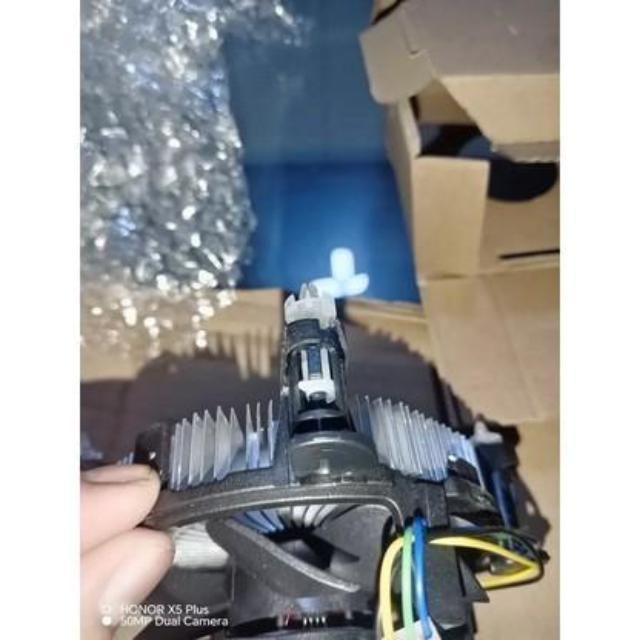CPU_Fan: (87, 389, 513, 640)
